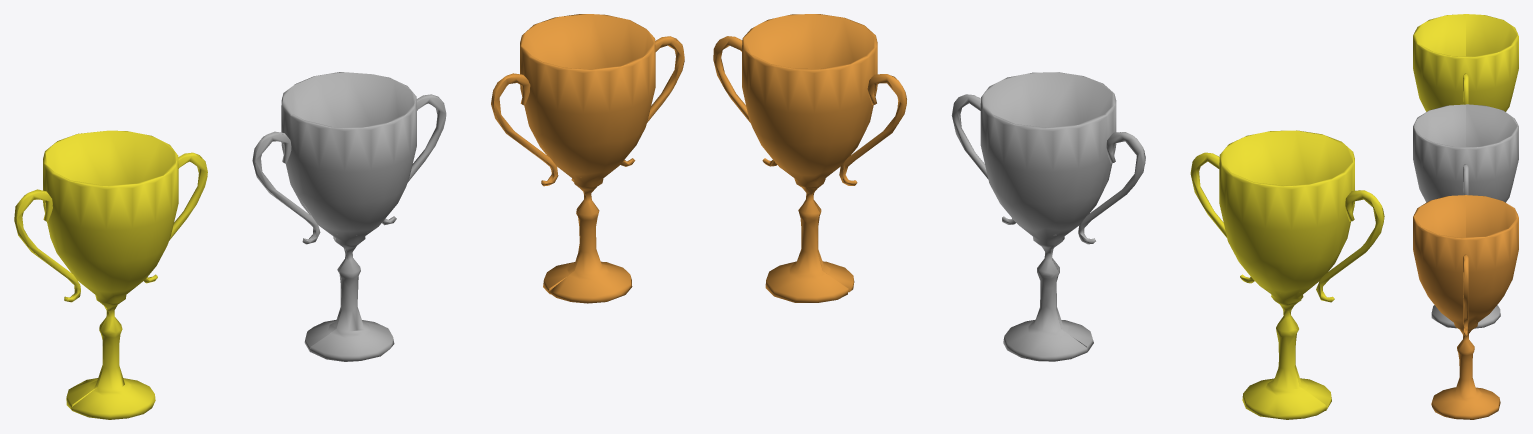
The model's file is trooples_new.fbx.
3 renders of one model, left to right at view 1: azimuth 30°, elevation 25°; view 2: azimuth 150°, elevation 25°; view 3: azimuth 270°, elevation 25°, orthographic. The views are drawn at different scales.
Visible parts, largest first — view 1: Plane.006, Plane.001, Plane.013; view 2: Plane.001, Plane.013, Plane.006; view 3: Plane.013, Plane.001, Plane.006.
Part boxes in pixels (left/top/right/bottom): Plane.006: left=14, top=130, right=207, bottom=419; Plane.001: left=252, top=72, right=446, bottom=361; Plane.013: left=491, top=14, right=684, bottom=303; Plane.001: left=951, top=72, right=1145, bottom=361; Plane.013: left=713, top=14, right=906, bottom=302; Plane.006: left=1190, top=130, right=1384, bottom=419; Plane.013: left=1413, top=195, right=1518, bottom=419; Plane.001: left=1413, top=104, right=1518, bottom=328; Plane.006: left=1413, top=14, right=1518, bottom=111.
Size of the model in its own units: 247 by 86.85 by 43.39.
